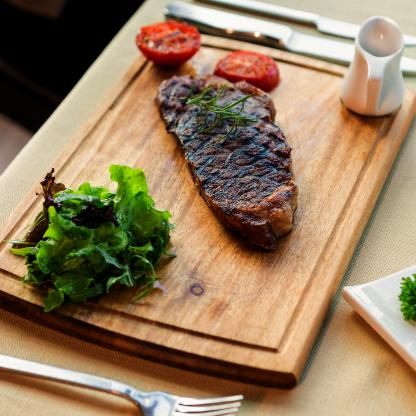Carne: (155, 74, 297, 249)
